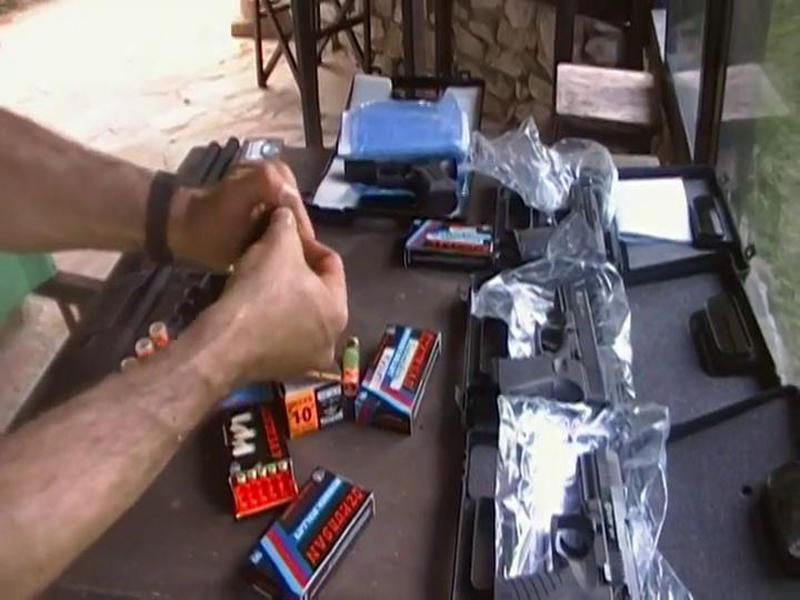Pistola: (472, 265, 629, 427)
